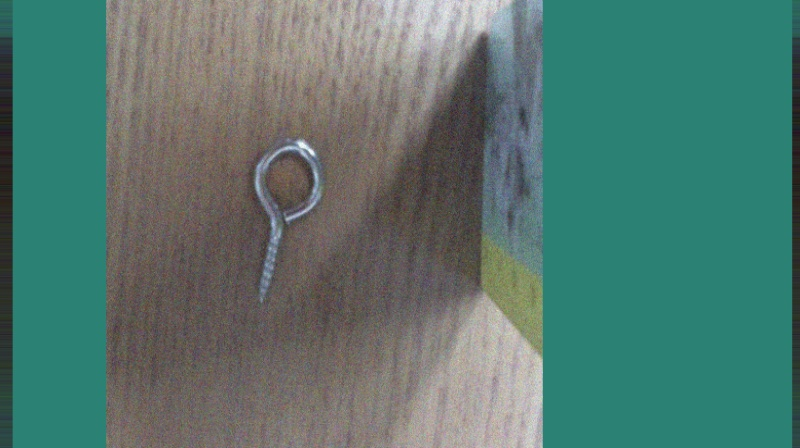O001: (248, 131, 325, 304)
